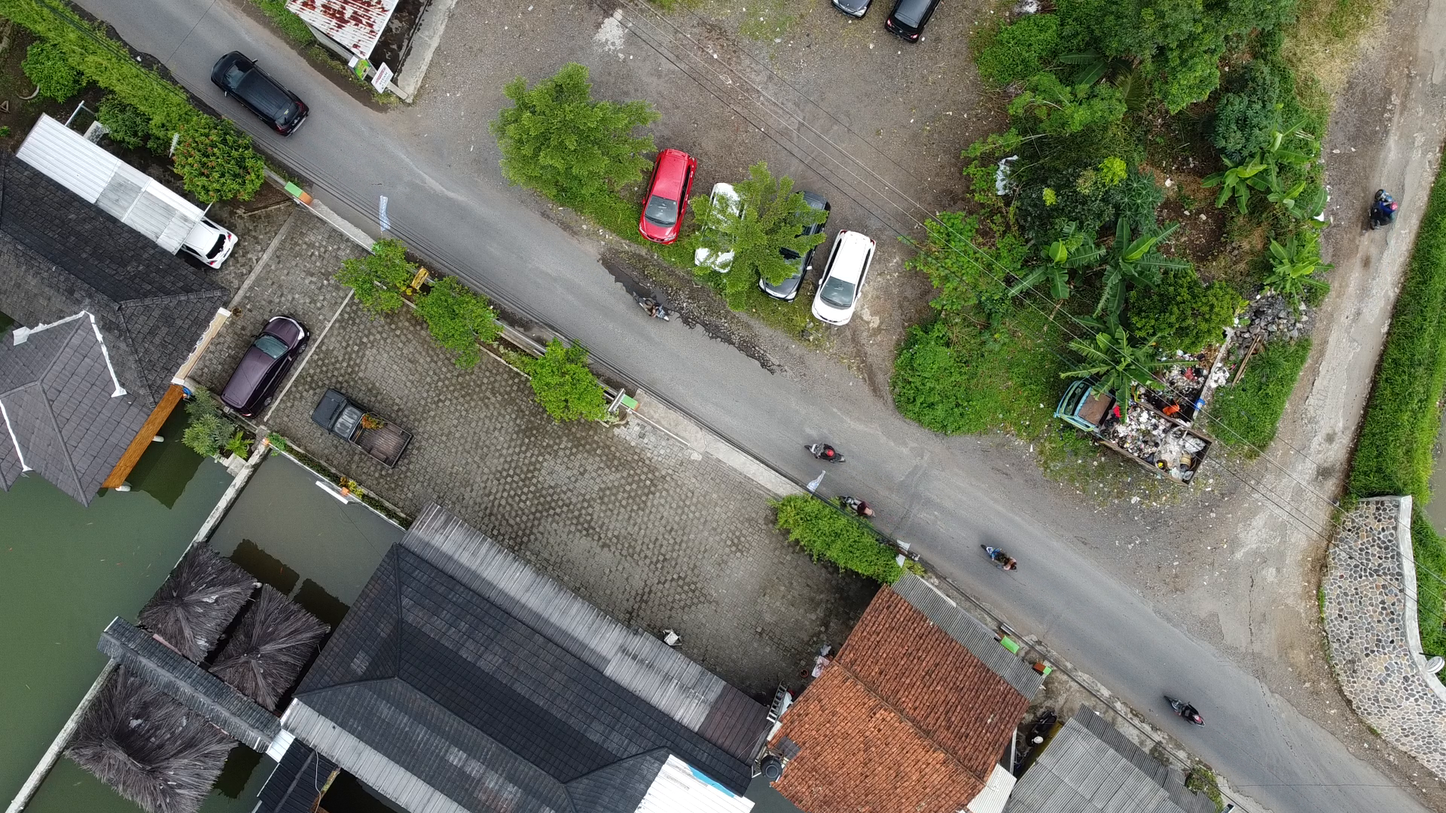mobil: (203, 40, 339, 149), (217, 306, 318, 413), (308, 379, 413, 473), (630, 141, 708, 254), (758, 187, 831, 299), (691, 172, 752, 289), (805, 229, 877, 324), (169, 215, 245, 277), (883, 2, 950, 49)
